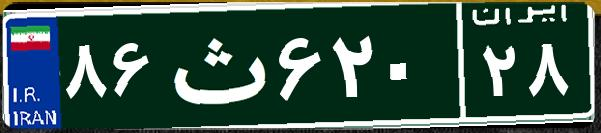0: (385, 28, 445, 110)
2: (330, 28, 385, 110), (475, 38, 525, 113)
6: (273, 28, 330, 110), (110, 28, 158, 105)
8: (57, 26, 110, 107), (525, 38, 570, 115)
ث: (158, 15, 273, 115)
